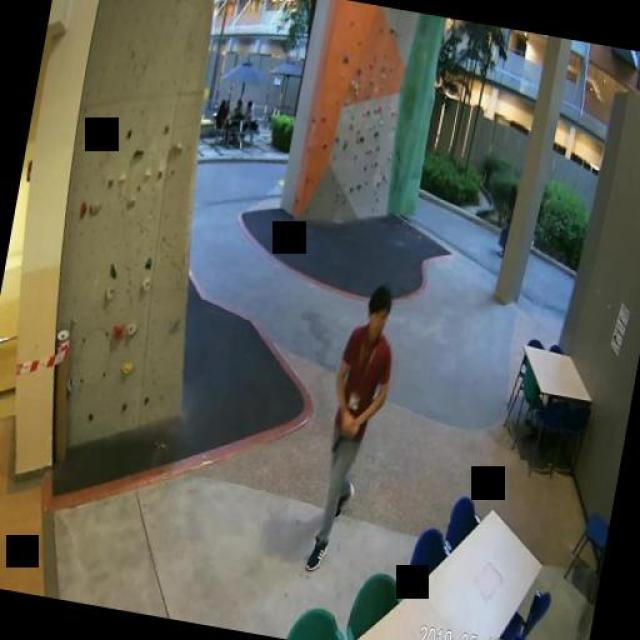gun: (330, 414, 355, 451)
